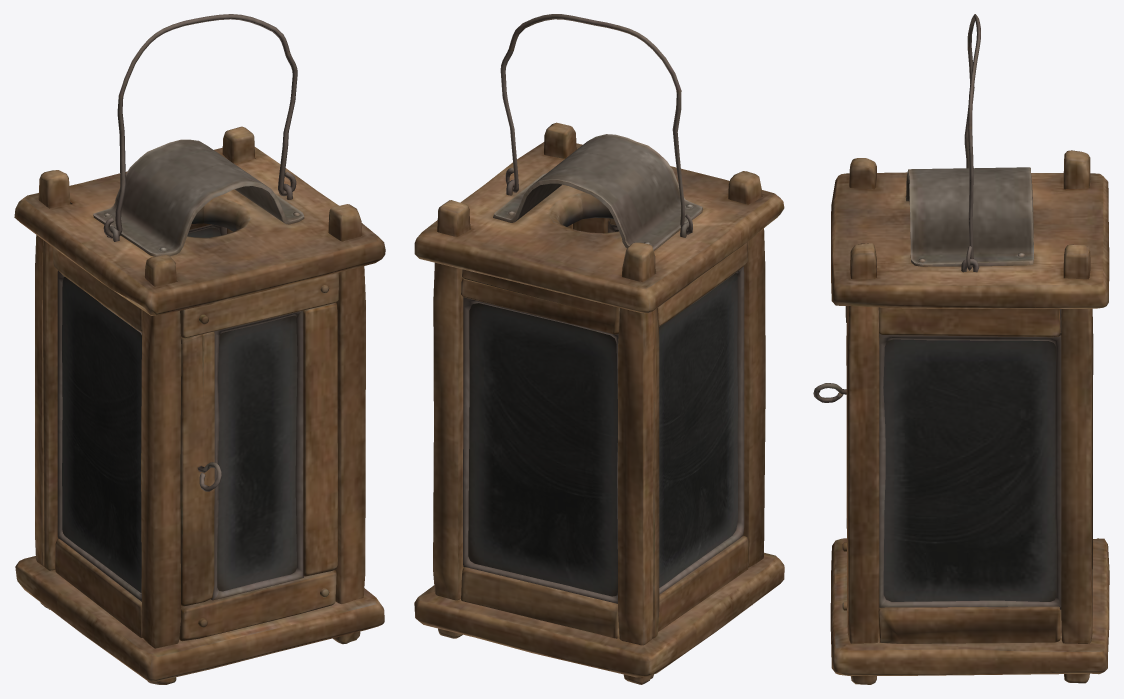
The model's file is wooden_lantern_01.glb.
The picture shows the model from 3 angles, left to right: view 1: azimuth 30°, elevation 25°; view 2: azimuth 150°, elevation 25°; view 3: azimuth 270°, elevation 25°; orthographic projection.
Parts seen in each view (by area): view 1: wooden_lantern_01, wooden_lantern_01_door, wooden_lantern_01_handle; view 2: wooden_lantern_01, wooden_lantern_01_handle, wooden_lantern_01_door; view 3: wooden_lantern_01, wooden_lantern_01_handle, wooden_lantern_01_door.
Part boxes in pixels (x1,y1,x2,y2): wooden_lantern_01: (14, 126, 385, 684); wooden_lantern_01_door: (179, 272, 339, 641); wooden_lantern_01_handle: (103, 14, 297, 238); wooden_lantern_01: (414, 122, 784, 684); wooden_lantern_01_handle: (500, 14, 692, 234); wooden_lantern_01_door: (573, 217, 618, 233); wooden_lantern_01: (830, 150, 1109, 684); wooden_lantern_01_handle: (964, 14, 980, 270); wooden_lantern_01_door: (813, 306, 847, 610).
Size of the model in its own units: 0.2211 by 0.5302 by 0.2347.
Materials: 2 (2 with a texture image).
